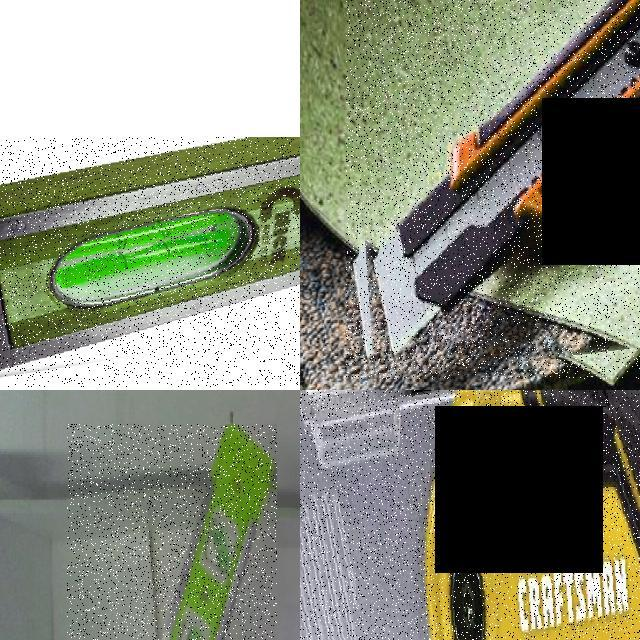estilete: (374, 0, 639, 350)
